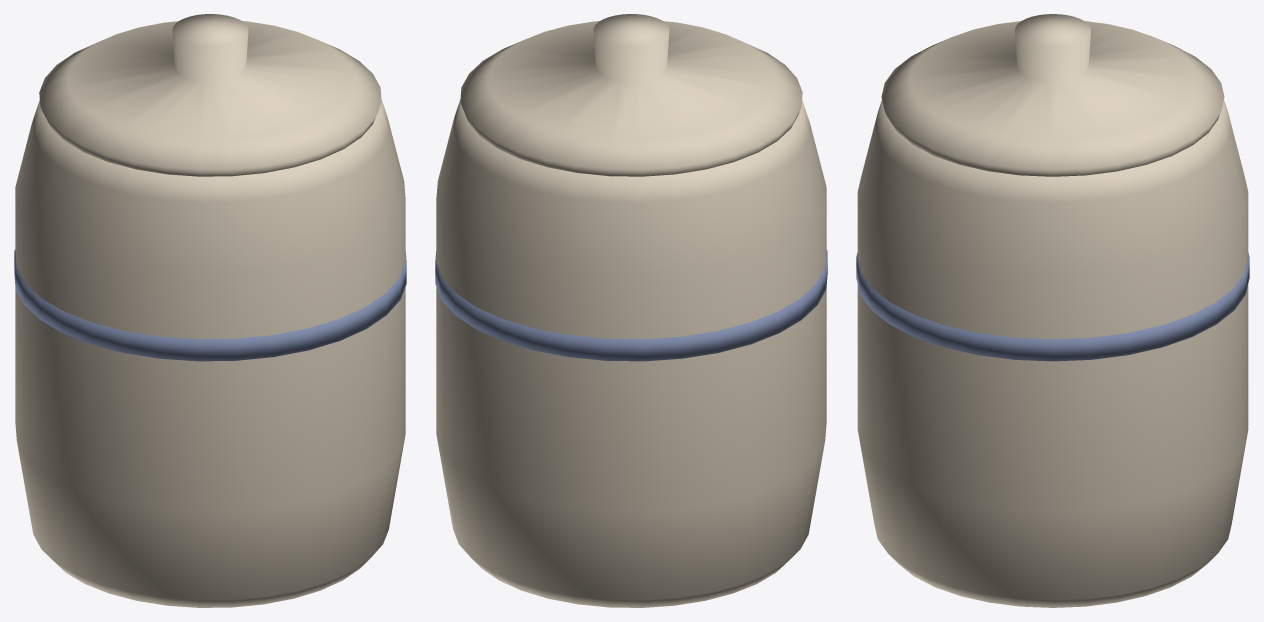
Rendered from crock.glb.
3 renders of one model, left to right at view 1: azimuth 30°, elevation 25°; view 2: azimuth 150°, elevation 25°; view 3: azimuth 270°, elevation 25°, orthographic.
Parts seen in each view (by area): view 1: crock; view 2: crock; view 3: crock.
Part boxes in pixels (bbox=[...]): crock: bbox=[14, 14, 406, 607]; crock: bbox=[435, 14, 827, 607]; crock: bbox=[856, 14, 1249, 607].
Size of the model in its own units: 0.165 by 0.237 by 0.165.
